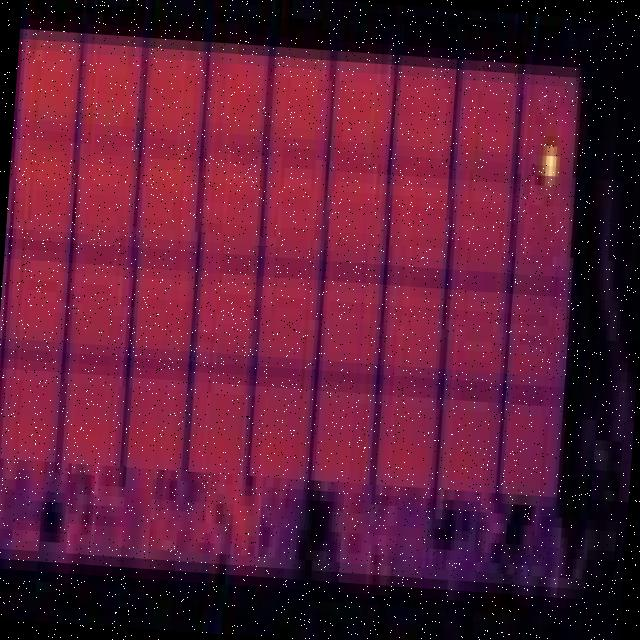Hotspot: (541, 147, 560, 178)
